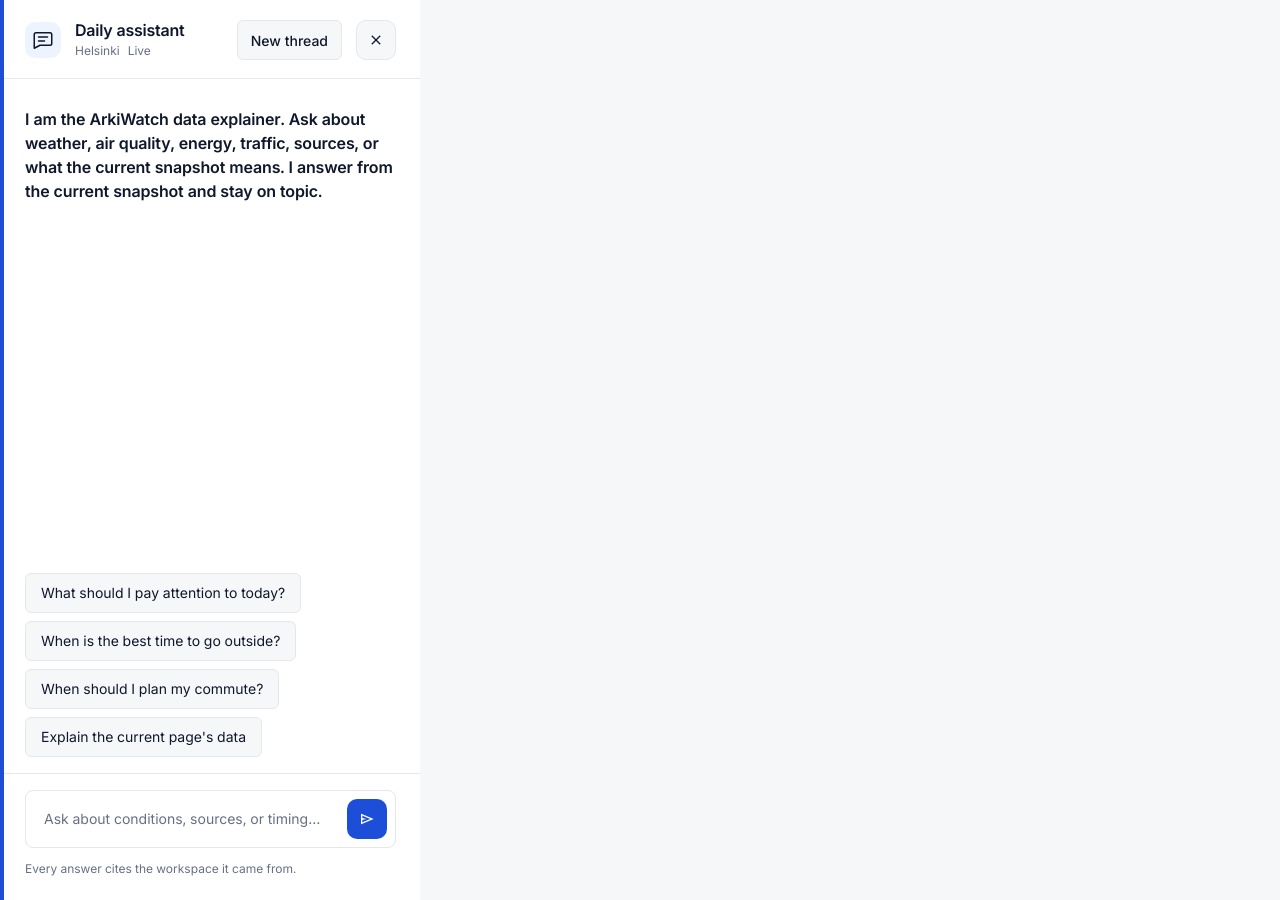
Test: AssistantRetryButton › returns a retryable, localized state when a stream stalls
In the field named "Ask about platform data": [190, 819] box [42,799,337,839], type "What should I do?"
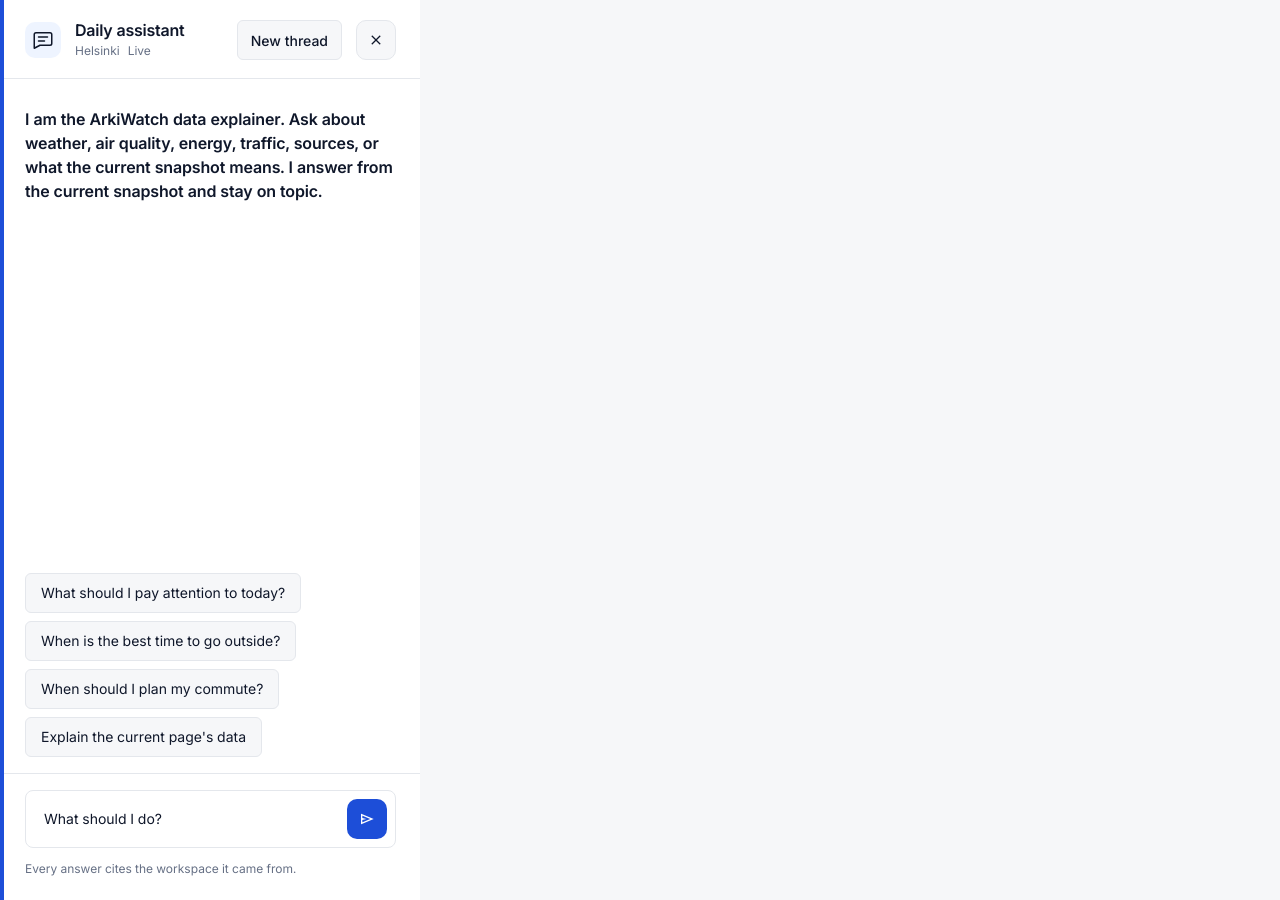
Submit the form named "Ask about platform data", box [1,773,420,899]
Wait 45000 ms
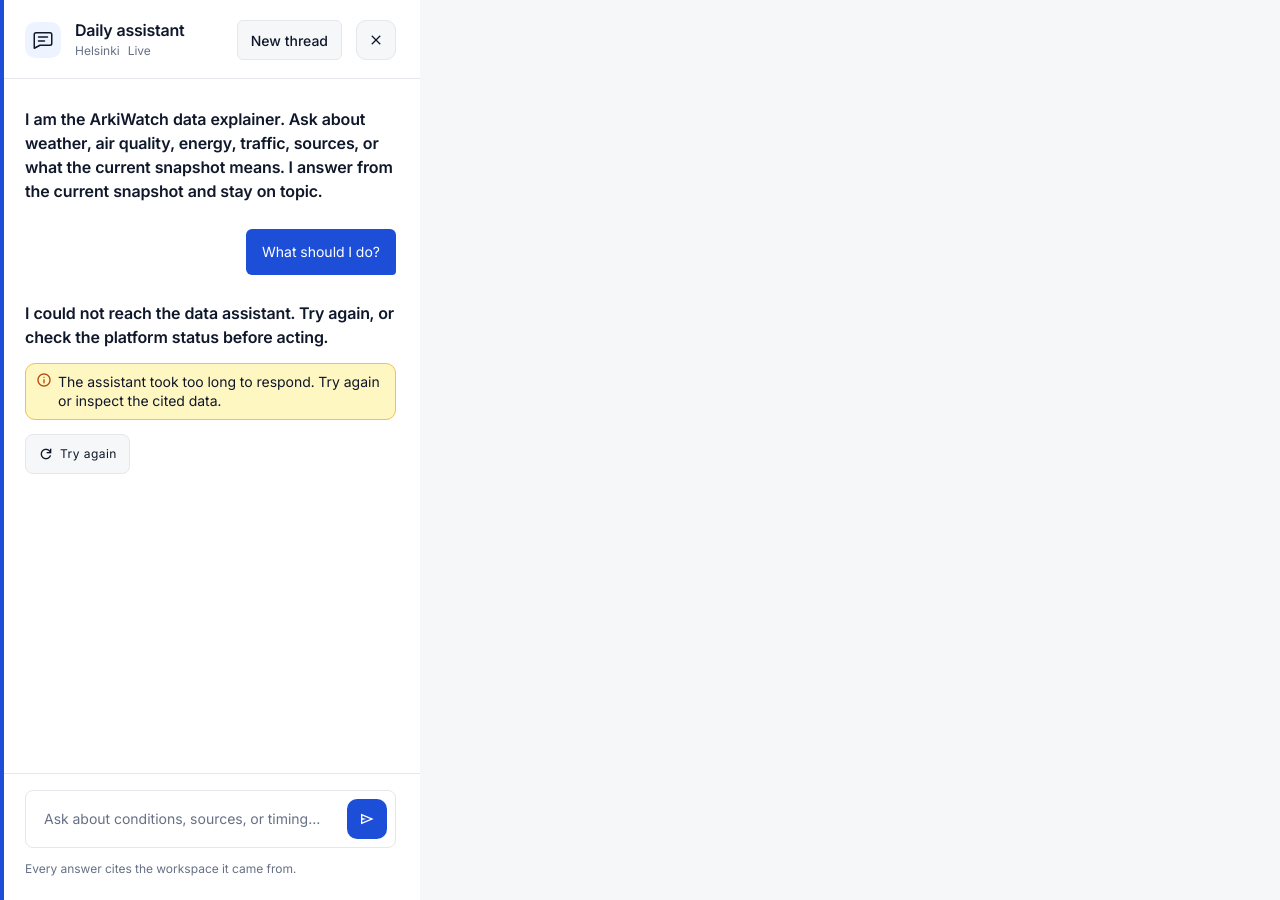
Expected: the text "The assistant took too long to respond. Try again or inspect the cited data." is shown, [58,372,385,411]
Expected: the button with aria-label "Retry assistant request" is shown, [25,434,130,474]
